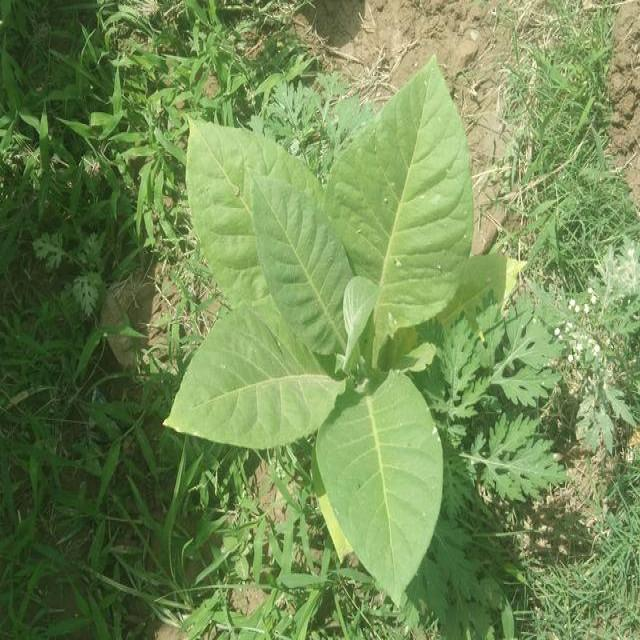crop: (167, 68, 496, 606)
